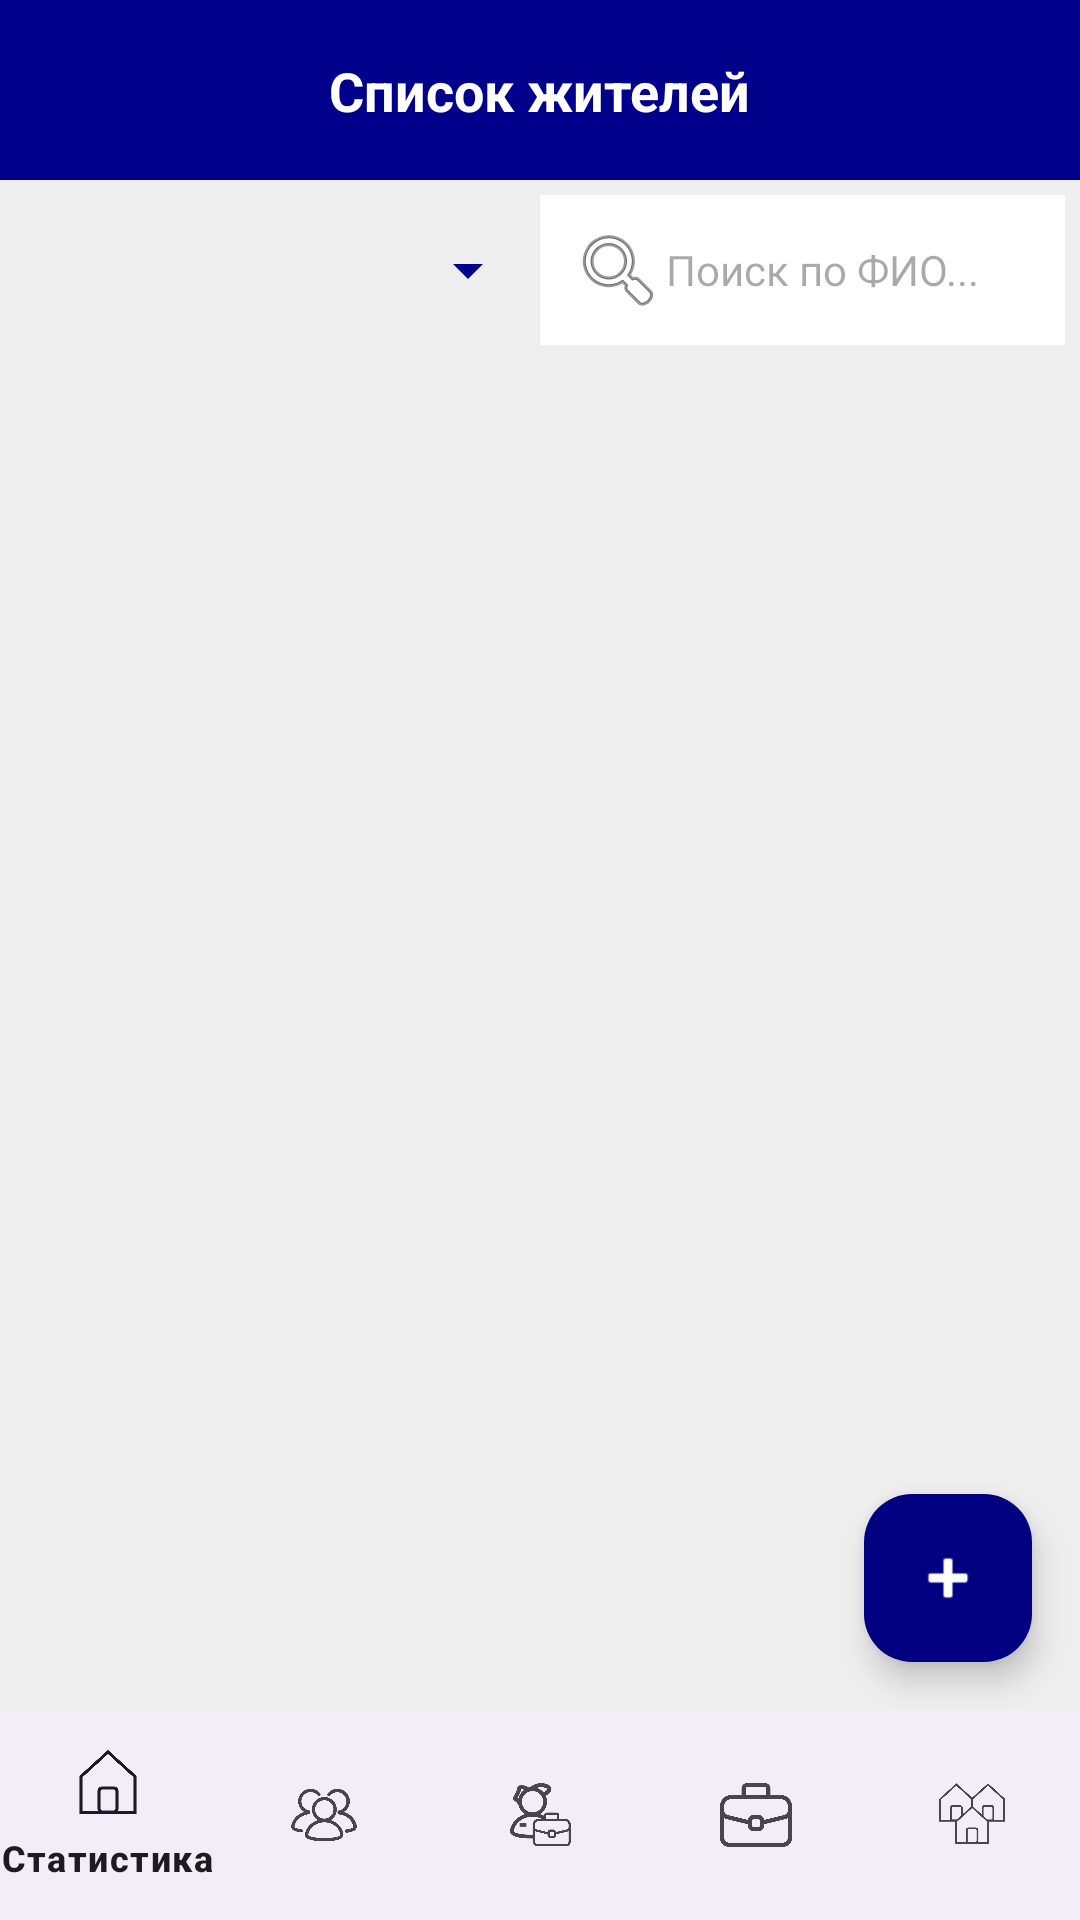

Named icons in this screenshot (1080w x 1920h) and their bounding boxes, (x1, y1, x2, y2):
add: (864, 1494, 1032, 1662)
